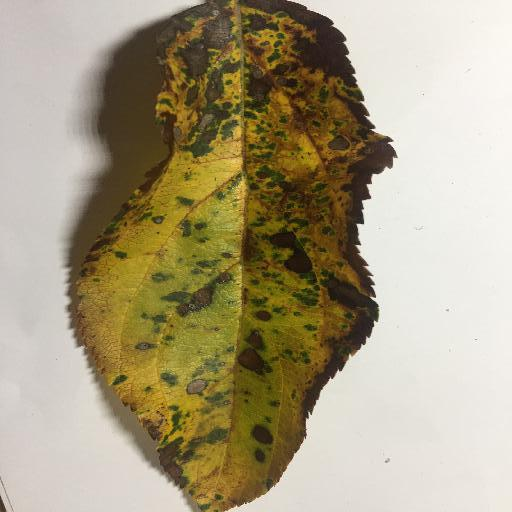Brown_Spot: (87, 2, 423, 199), (317, 269, 380, 325), (145, 432, 190, 488), (270, 230, 319, 280), (242, 309, 278, 375), (157, 287, 229, 318), (238, 417, 283, 464), (172, 370, 217, 398)
